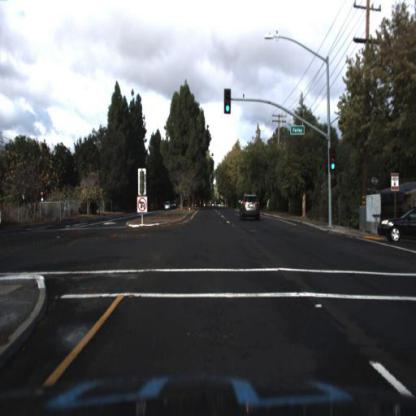car: (379, 205, 416, 247), (242, 194, 262, 222)
trafficLight-Green: (223, 84, 232, 115), (330, 155, 338, 174)
